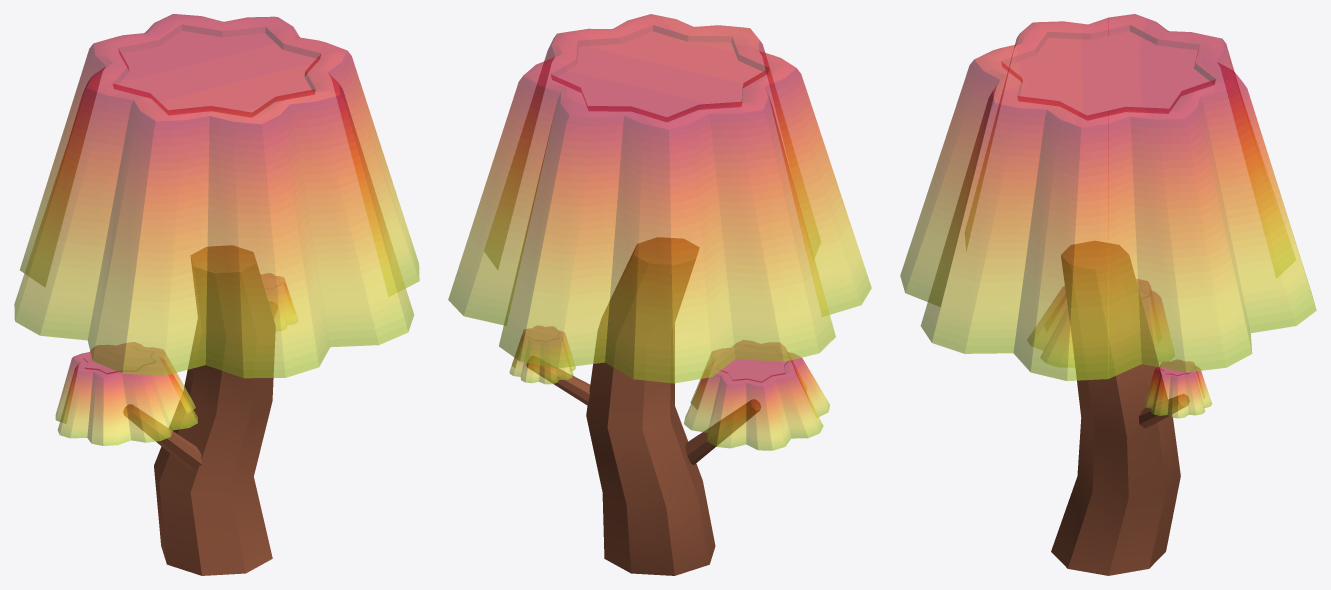
Rendered from jelly-tree.glb.
3 views of the same model, side by side, from view 1: azimuth 30°, elevation 25°; view 2: azimuth 150°, elevation 25°; view 3: azimuth 270°, elevation 25° (orthographic).
Visible parts, largest first — view 1: tree; view 2: tree; view 3: tree.
Boxes of the visible parts, <box> form: tree: <box>14,14,419,575</box>; tree: <box>448,14,871,575</box>; tree: <box>900,14,1316,575</box>.
Size of what is drawn, in the model's own units: 7.24 by 9.29 by 7.24.
Materials: 2 (1 with a texture image).
